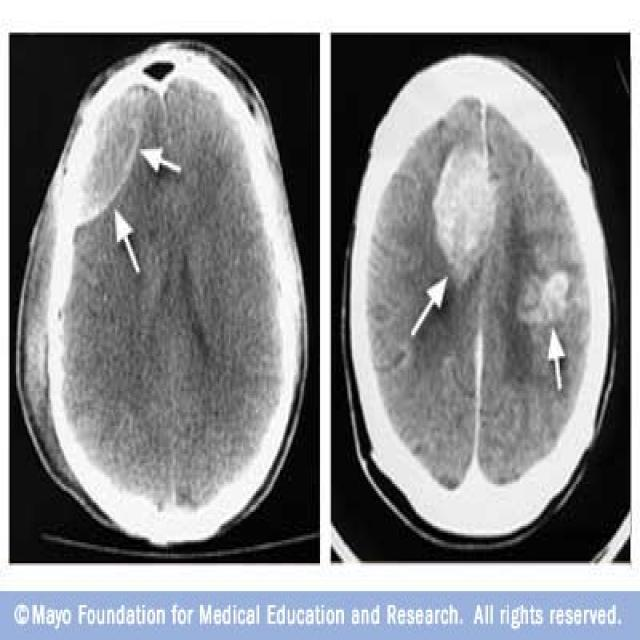Tumor: (432, 149, 492, 244), (83, 122, 137, 177), (532, 267, 576, 318)
